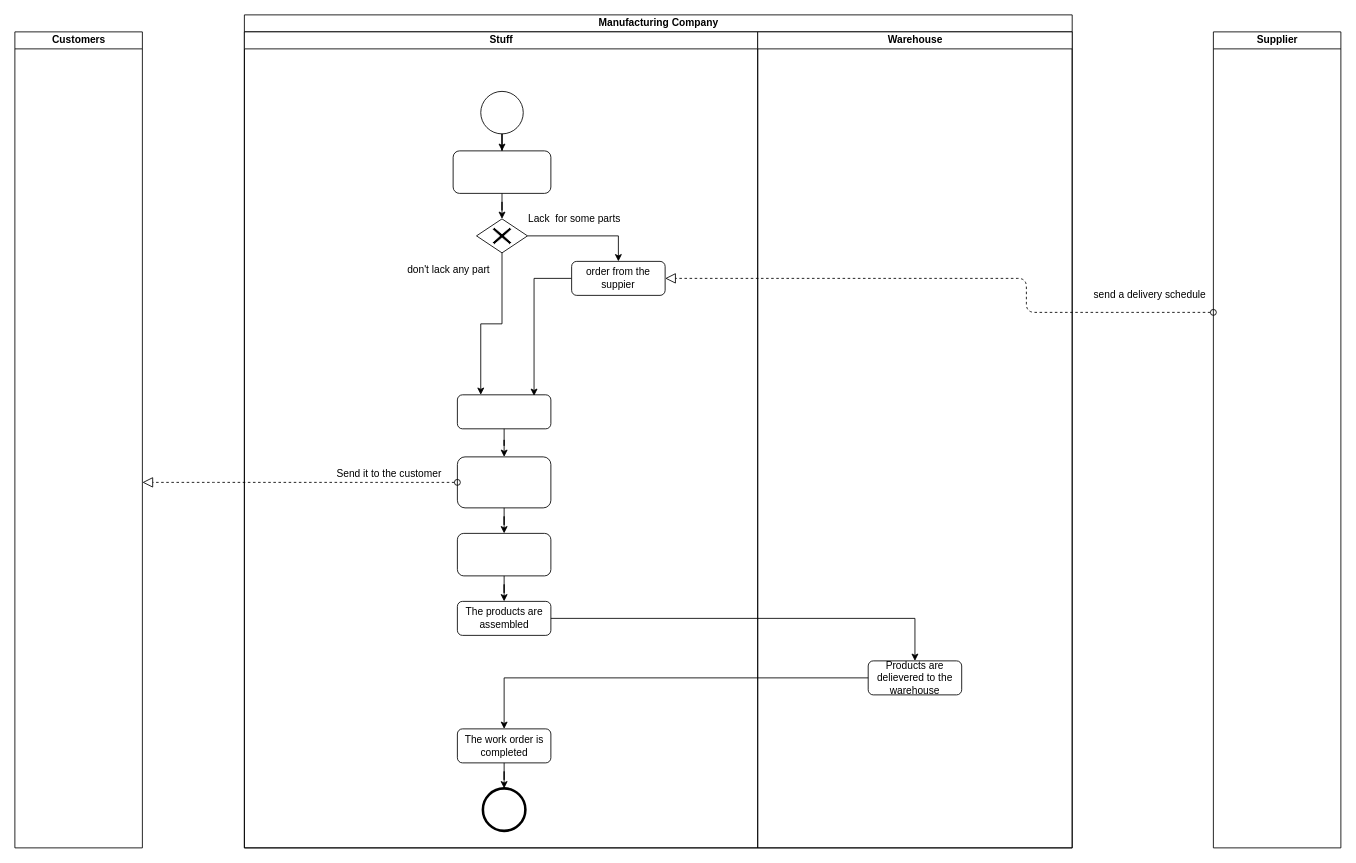
Some shapes in this 1356 by 863 pixel diagram are drawn without their labels. Each missing label, with the centre of its shape:
"check for parts availability" goes at (x=501, y=171).
"Parts from the parts supplier are received" goes at (x=504, y=554).
"produce a product delivery schedule" goes at (x=504, y=482).
"produce a work order" goes at (x=504, y=411).
